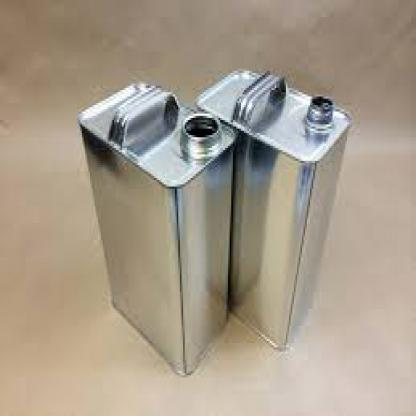Compsot: (77, 80, 233, 378), (194, 66, 352, 350)
